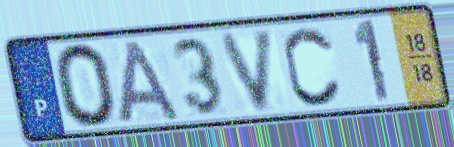1: (351, 16, 393, 107)
3: (171, 34, 227, 117)
A: (116, 39, 184, 126)
C: (281, 24, 345, 109)
O: (52, 40, 121, 131)
V: (216, 25, 278, 115)
